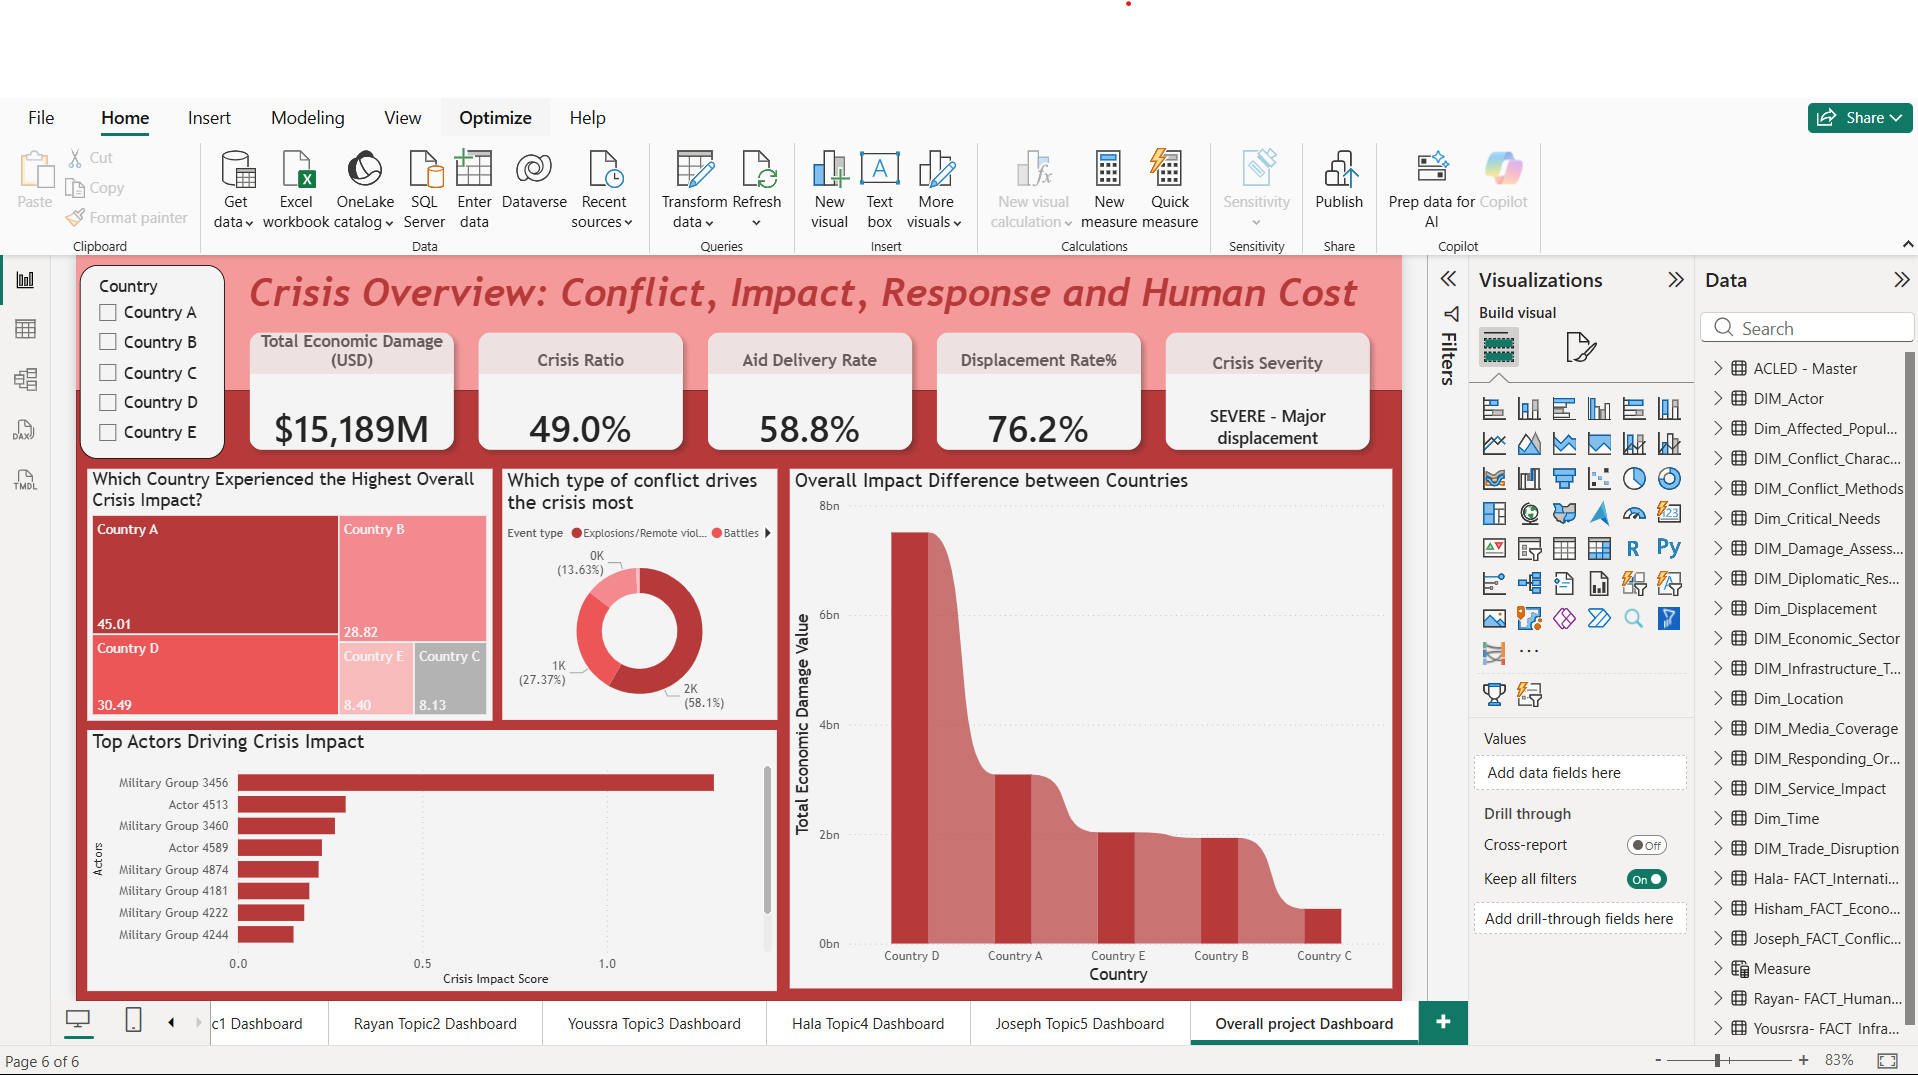

The page's visual inventory and layout, read from the dashboard file:
{"tool":"powerbi","page":{"name":"Overall project Dashboard","canvas":[1280,720],"ordinal":5},"visuals":[{"type":"shape","box":[0,130.3,1280,589.9],"z":0},{"type":"slicer","fields":{"Values":["Dim_Location.country"]},"box":[3.6,9.7,139.9,187],"z":1000},{"type":"textbox","box":[161.7,9.7,1118.4,70],"z":2000},{"type":"cardVisual","fields":{"Data":["Sum(Hisham_FACT_Economic_Impact.economic_damage_usd)","Measure.Humanitarian_Crisis_Ratio","Measure.Delivery_Rate_%","Measure.Children_Displacement_Rate","Measure.Crisis_Severity_Text"]},"box":[155.6,57.9,1106.3,144.8],"z":3000},{"type":"treemap","title":"Which Country Experienced the Highest Overall Crisis Impact?","fields":{"Group":["Dim_Location.country"],"Values":["Measure.Overall_Crisis_Impact_Index"]},"box":[11.4,206.2,390.9,242.9],"z":4000},{"type":"clusteredBarChart","title":"Top Actors Driving Crisis Impact","fields":{"Category":["DIM_Actor.actor_name"],"Y":["Measure.Actor_Crisis_Impact"]},"box":[10.9,458.4,666,252.1],"z":5000},{"type":"ribbonChart","title":"Overall Impact Difference between Countries","fields":{"Category":["Dim_Location.country"],"Y":["Measure.Total_Economic_Damage_Value"]},"box":[688.9,206.3,581.5,501.9],"z":6000},{"type":"donutChart","title":"Which type of conflict drives the crisis most","fields":{"Category":["DIM_Conflict_Characteristics.event_type"],"Y":["Measure.Total_Conflict_Events"]},"box":[411.4,206.3,265.4,242.5],"z":7000}]}

Visuals, with their boxes on the page's 1280x720 design canvas (x1, y1, x2, y2). These are canvas units, not pixel positions in the 1918x1075 screenshot, which may show the page scaled, cropped or inside an application window:
shape: 0/130/1280/720
slicer - Dim_Location.country: 4/10/144/197
textbox: 162/10/1280/80
cardVisual - Sum(Hisham_FACT_Economic_Impact.economic_damage_usd) x Measure.Humanitarian_Crisis_Ratio: 156/58/1262/203
"Which Country Experienced the Highest Overall Crisis Impact?" treemap: 11/206/402/449
"Top Actors Driving Crisis Impact" clusteredBarChart: 11/458/677/710
"Overall Impact Difference between Countries" ribbonChart: 689/206/1270/708
"Which type of conflict drives the crisis most" donutChart: 411/206/677/449
